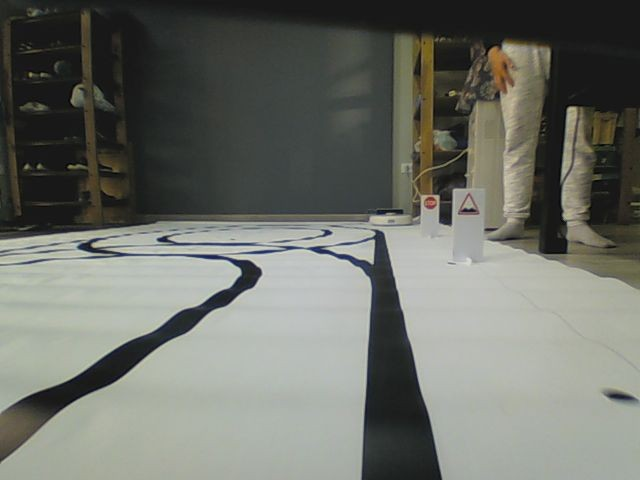Nerov: (457, 191, 480, 216)
